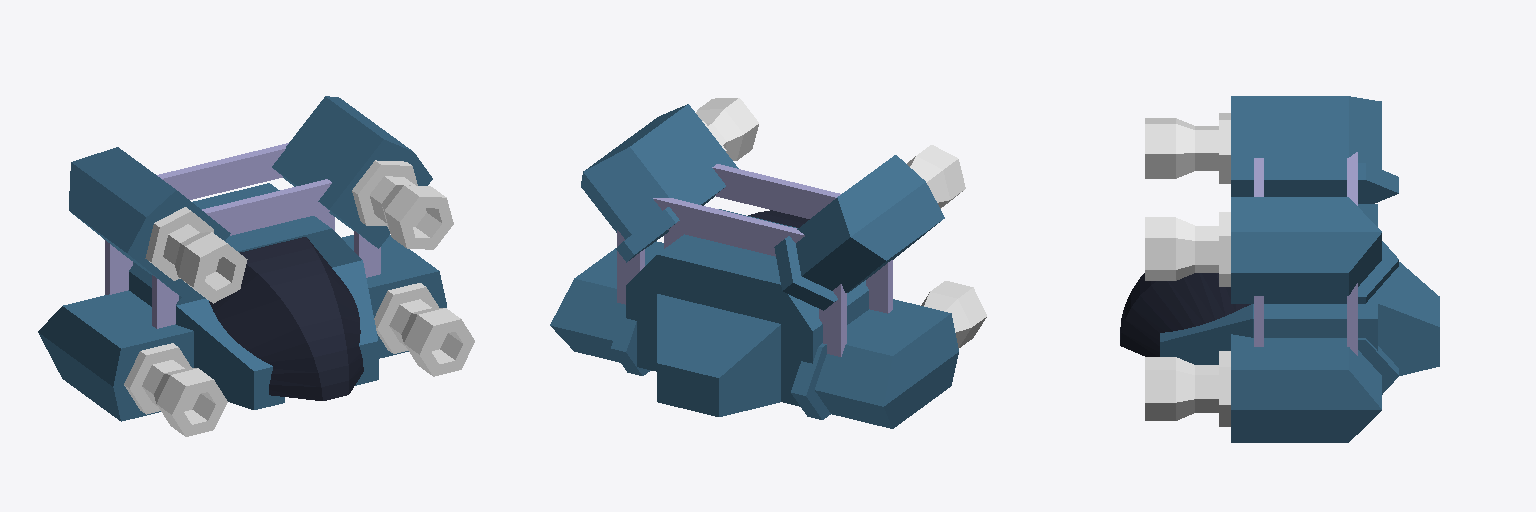
The model's file is flying_02_03.obj.
3 renders of one model, left to right at view 1: azimuth 30°, elevation 25°; view 2: azimuth 150°, elevation 25°; view 3: azimuth 270°, elevation 25°, orthographic.
Visible parts, largest first — view 1: mergedBlocks; view 2: mergedBlocks; view 3: mergedBlocks.
Boxes of the visible parts, <box> form: mergedBlocks: <box>38,96,474,436</box>; mergedBlocks: <box>550,98,986,428</box>; mergedBlocks: <box>1120,96,1439,442</box>.
Size of the model in its own units: 1.61 by 1 by 1.33.